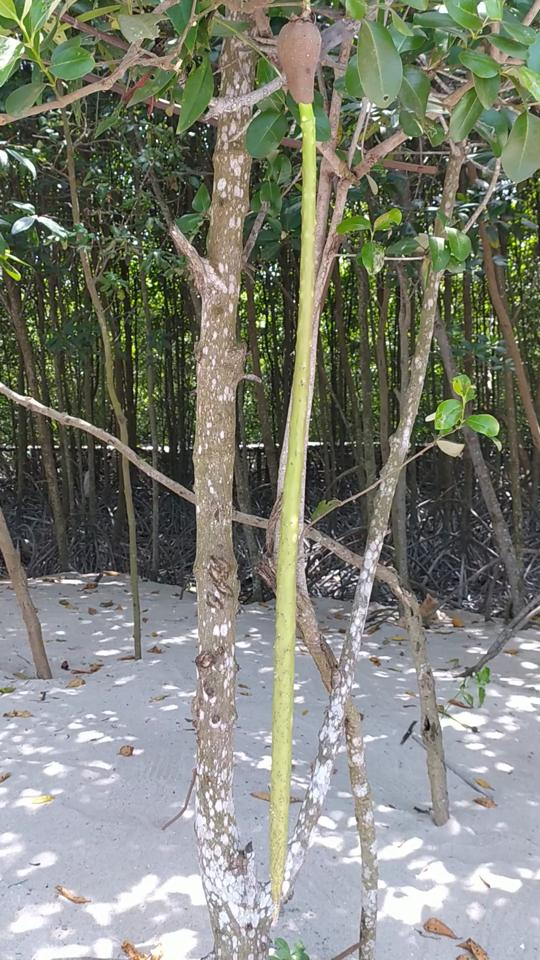mentah: (250, 11, 334, 919)
